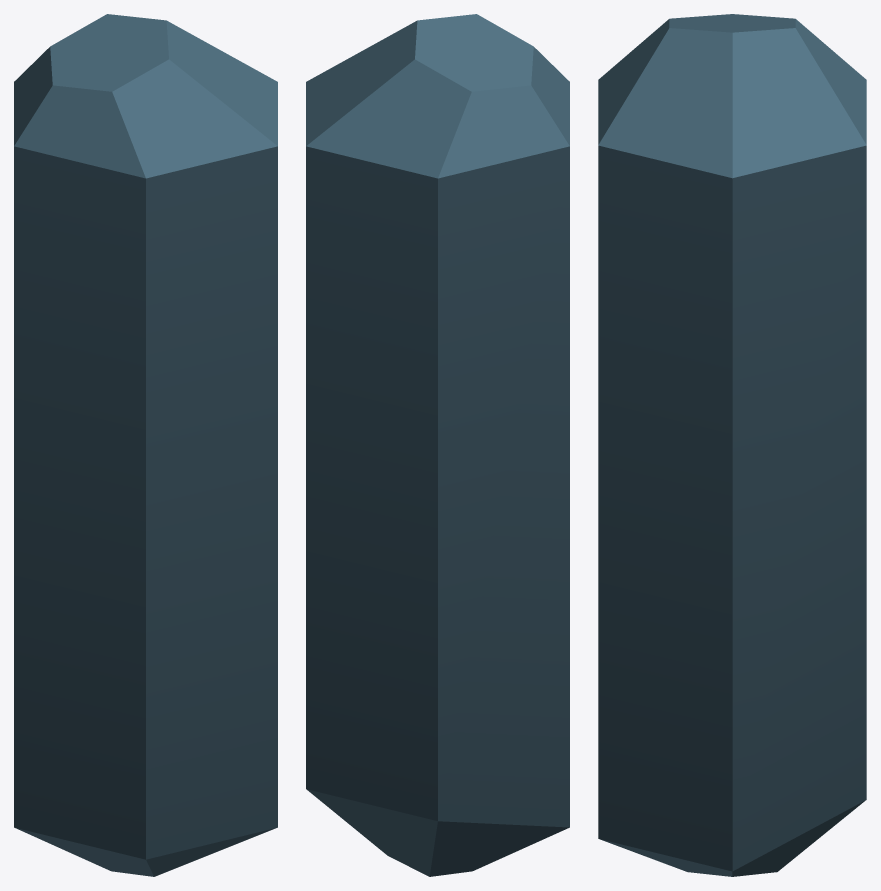
File: geology-crystals-calcitecrystal_v10.fbx
The picture shows the model from 3 angles, left to right: view 1: azimuth 30°, elevation 25°; view 2: azimuth 150°, elevation 25°; view 3: azimuth 270°, elevation 25°; orthographic projection.
Parts seen in each view (by area): view 1: CalciteCrystal_v10; view 2: CalciteCrystal_v10; view 3: CalciteCrystal_v10.
Boxes of the visible parts, box(x1,y1,x2,y2) form: CalciteCrystal_v10: box(14, 14, 277, 876); CalciteCrystal_v10: box(306, 14, 569, 876); CalciteCrystal_v10: box(598, 14, 866, 876).
Bounding box in the file's own units: 1.39 × 4.22 × 1.21.
